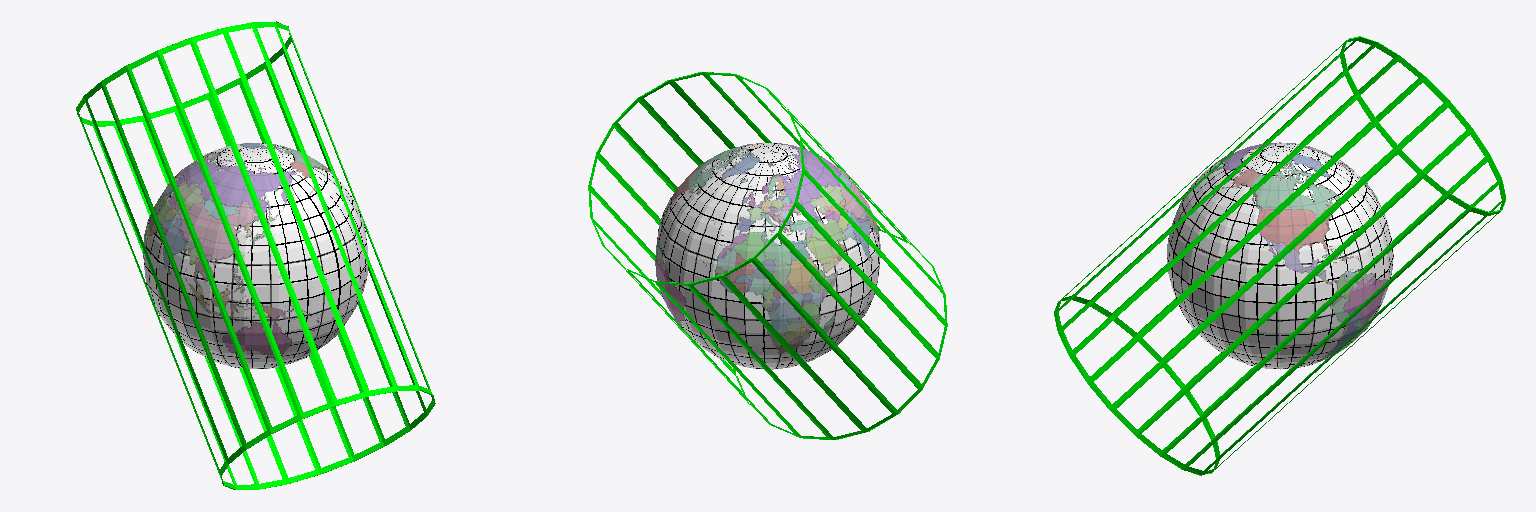
3 views of the same model, side by side, from view 1: azimuth 30°, elevation 25°; view 2: azimuth 150°, elevation 25°; view 3: azimuth 270°, elevation 25° (orthographic).
Parts seen in each view (by area): view 1: polySurface1; view 2: polySurface1; view 3: polySurface1.
Part boxes in pixels (bbox=[...]): polySurface1: bbox=[76, 21, 435, 489]; polySurface1: bbox=[588, 72, 947, 439]; polySurface1: bbox=[1054, 36, 1505, 475].
Bounding box in the file's own units: 18.22 × 35.86 × 35.85.
2 materials, 1 textured.